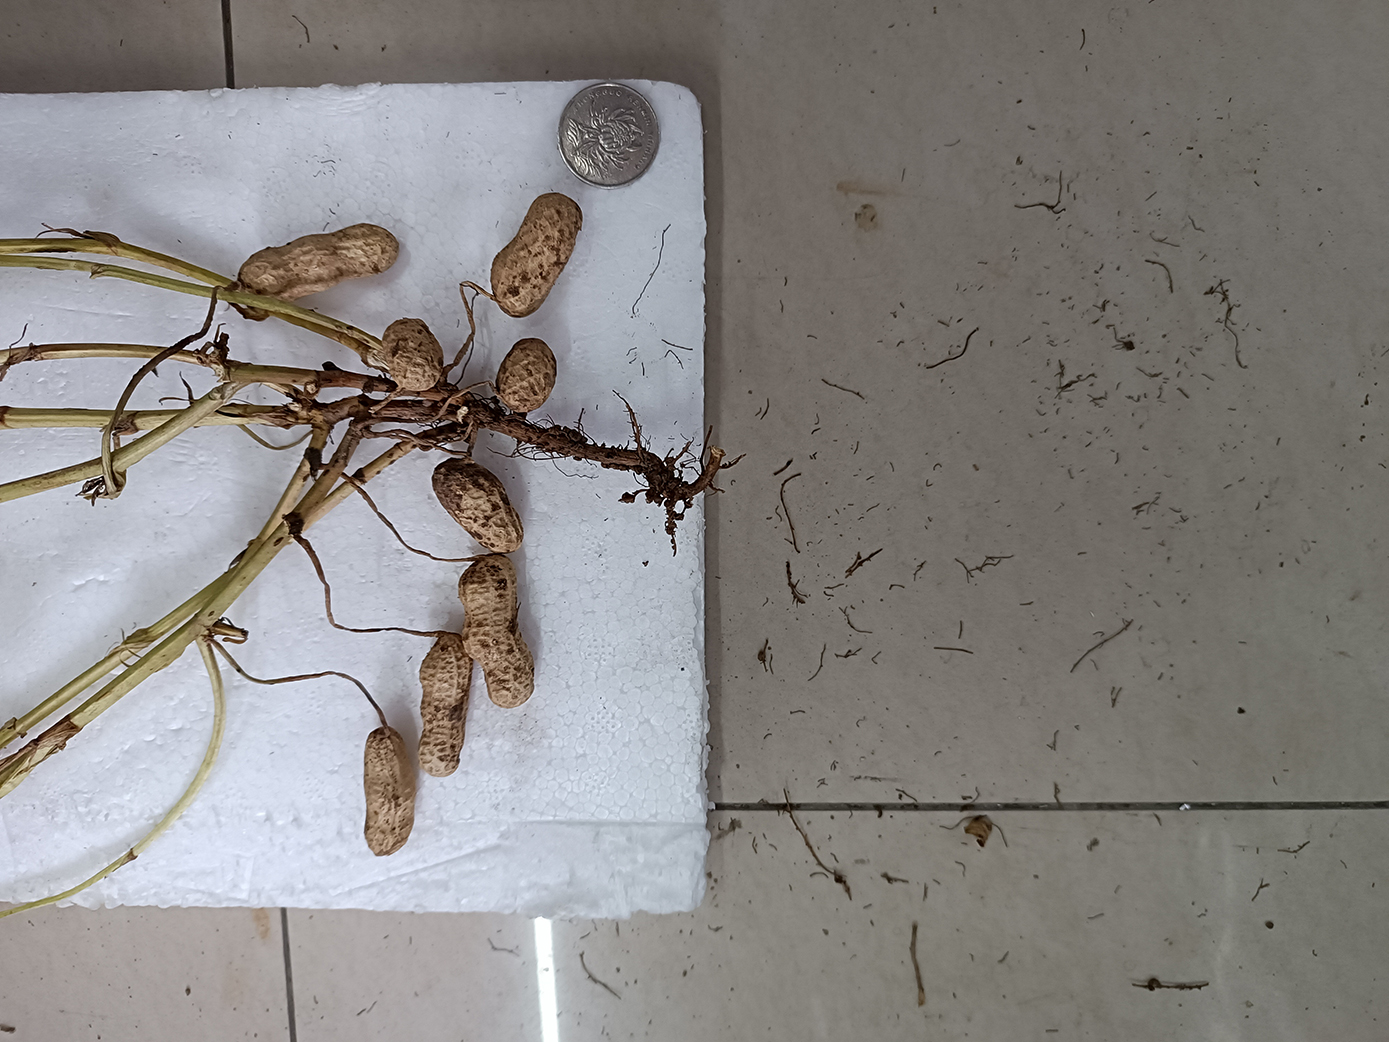h: (458, 554, 536, 710), (239, 223, 398, 300), (493, 192, 581, 319), (414, 634, 474, 780), (432, 459, 522, 551), (361, 728, 413, 859), (497, 336, 559, 415), (383, 317, 444, 392)
